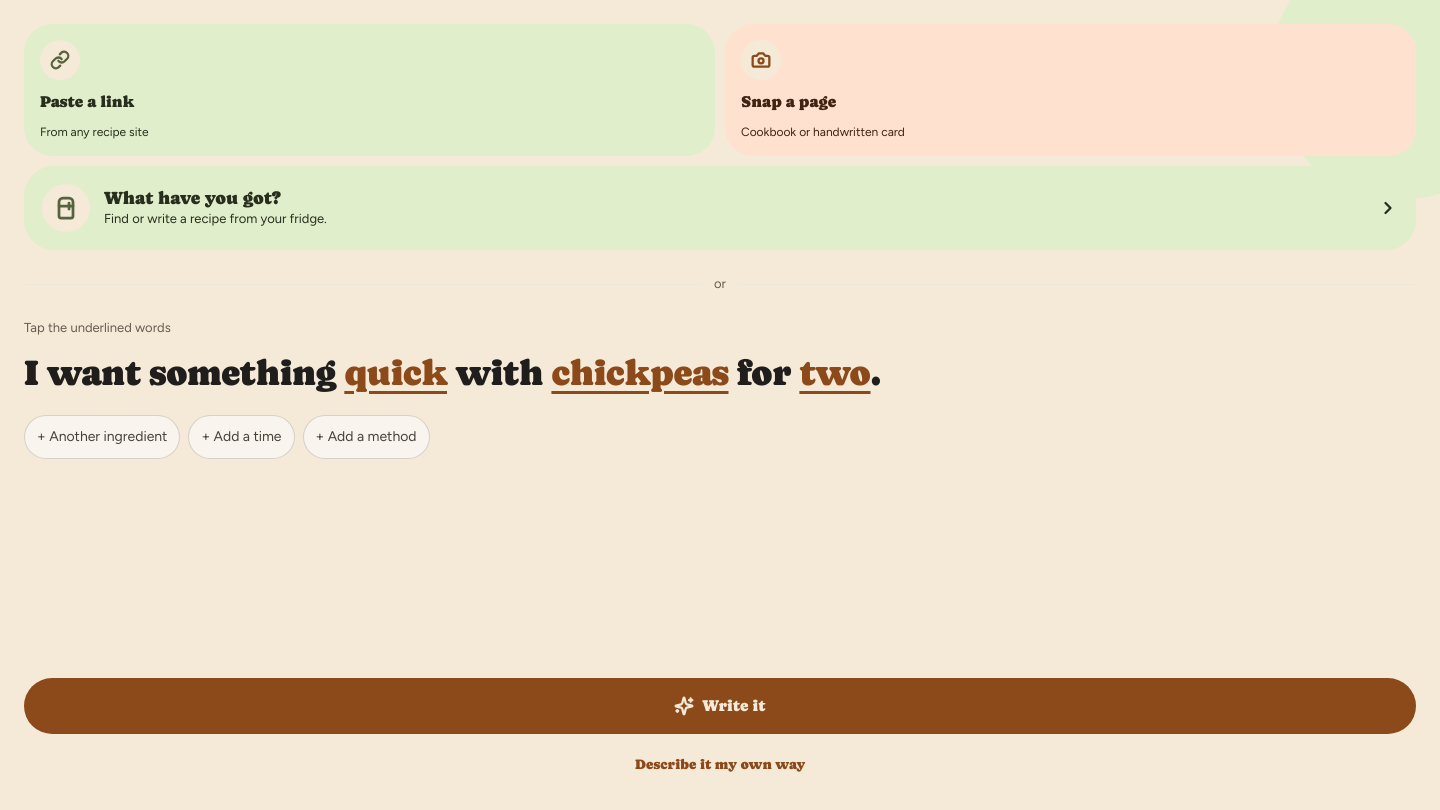
Test case: CreatePage › a chip removes its word again
The width and height of the screenshot is (1440, 810).
Click the button "+ Add a method".
click(366, 437)  # box [302, 415, 430, 459]
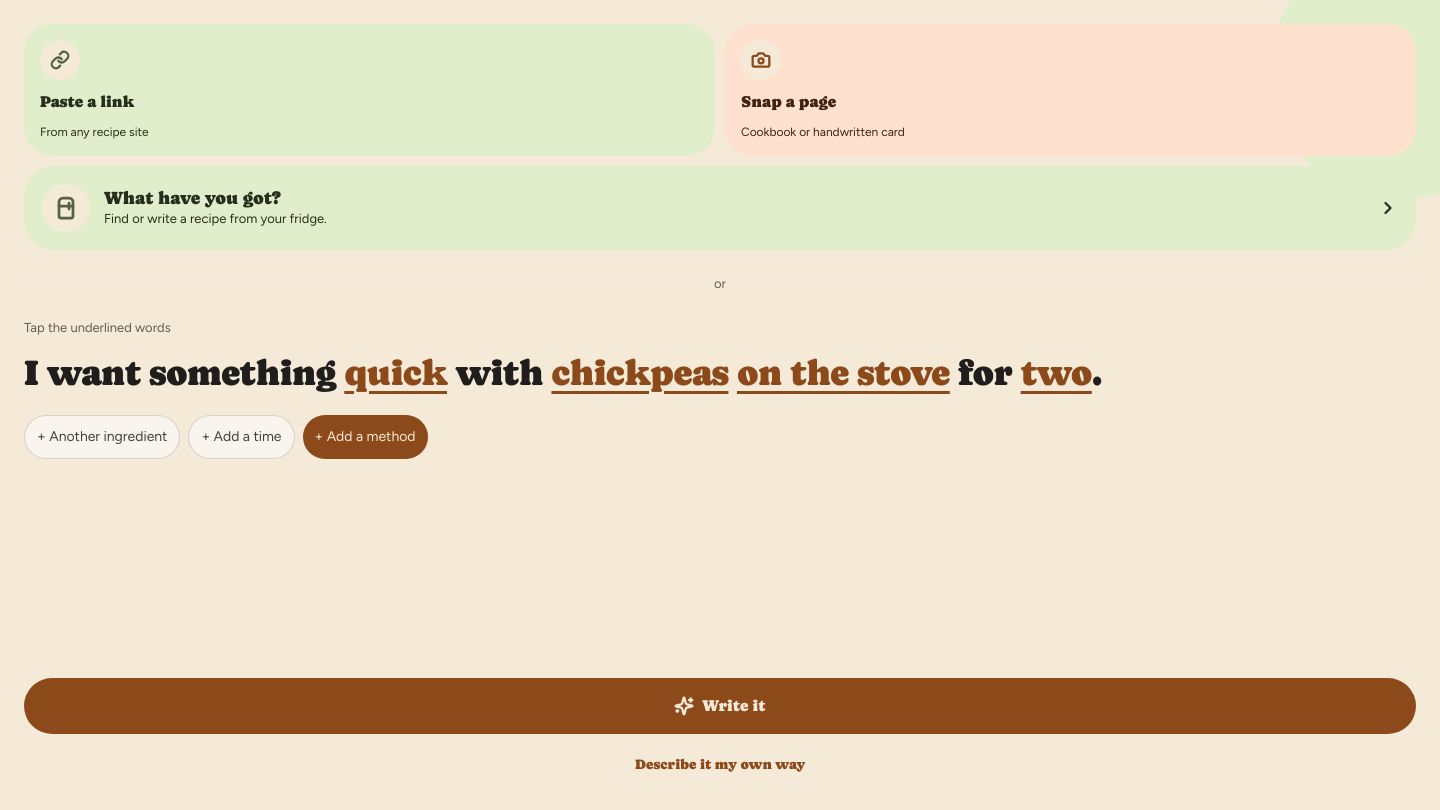
Expected: the button "on the stove" is shown, [737, 346, 950, 399]
Click the button "+ Add a method".
click(365, 437)  # box [302, 415, 428, 459]
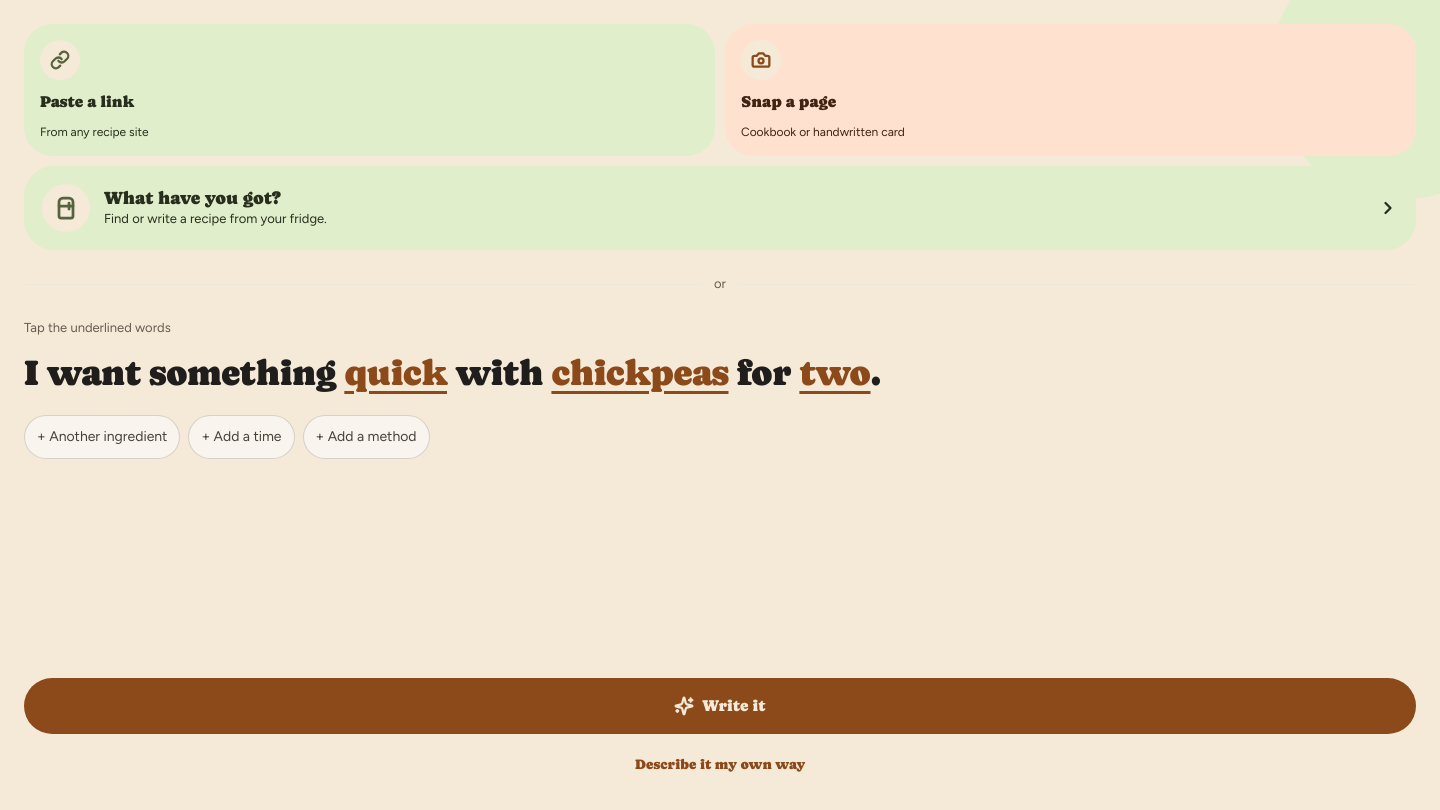
Expected: the heading reads "I want something quick with chickpeas for two .", [24, 346, 881, 399]
